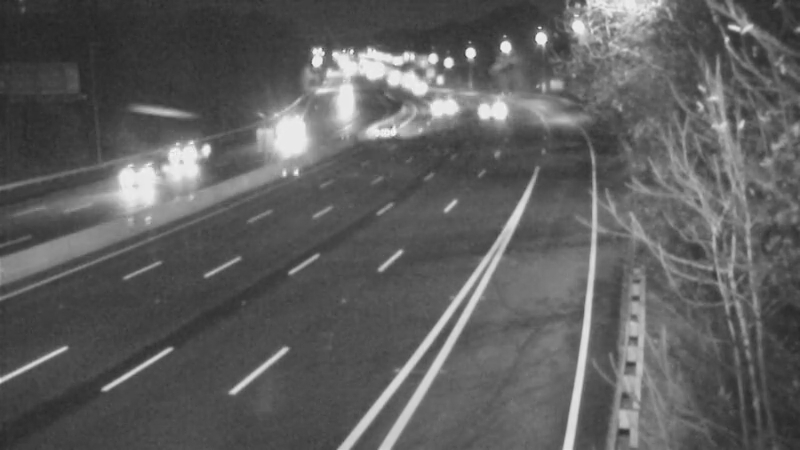vehicle: (104, 130, 184, 210), (142, 118, 222, 198), (422, 70, 472, 120), (457, 81, 507, 131), (365, 103, 415, 153), (271, 105, 321, 155)
